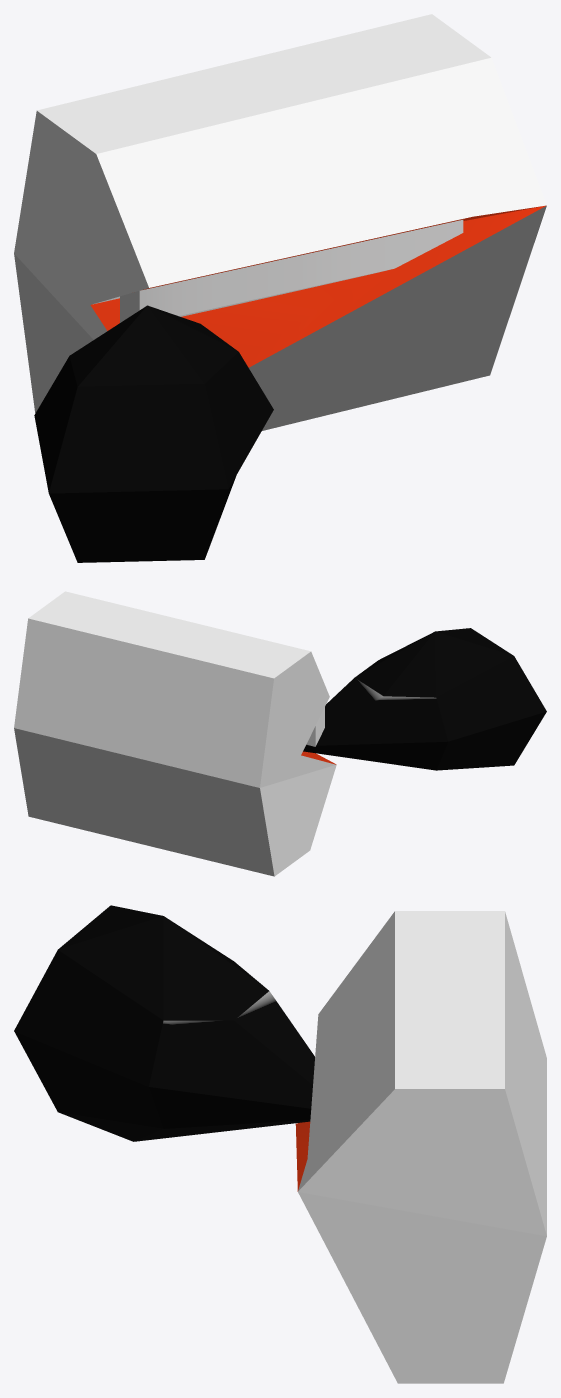
File: Goma.fbx
3 renders of one model, top to bottom at view 1: azimuth 30°, elevation 25°; view 2: azimuth 150°, elevation 25°; view 3: azimuth 270°, elevation 25°, orthographic. The views are drawn at different scales.
Parts seen in each view (by area): view 1: goma; view 2: goma; view 3: goma.
Part boxes in pixels (box(x1,y1,x2,y2)): goma: box(14, 14, 546, 562); goma: box(14, 591, 546, 876); goma: box(14, 905, 546, 1383).
Size of the model in its own units: 117 by 58.16 by 95.39.
